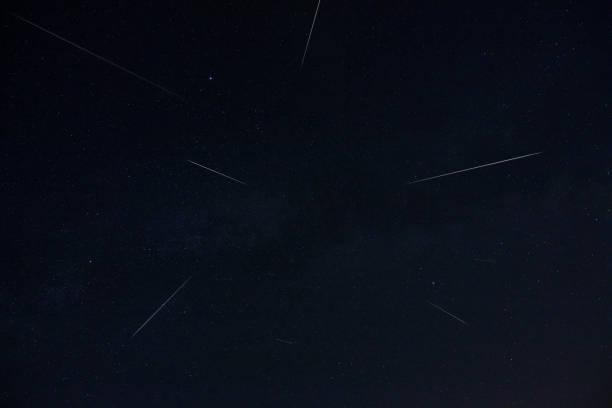meteor: (148, 80, 166, 95), (532, 145, 549, 160), (126, 331, 142, 345), (457, 317, 470, 328), (235, 178, 247, 187), (300, 55, 309, 67)
